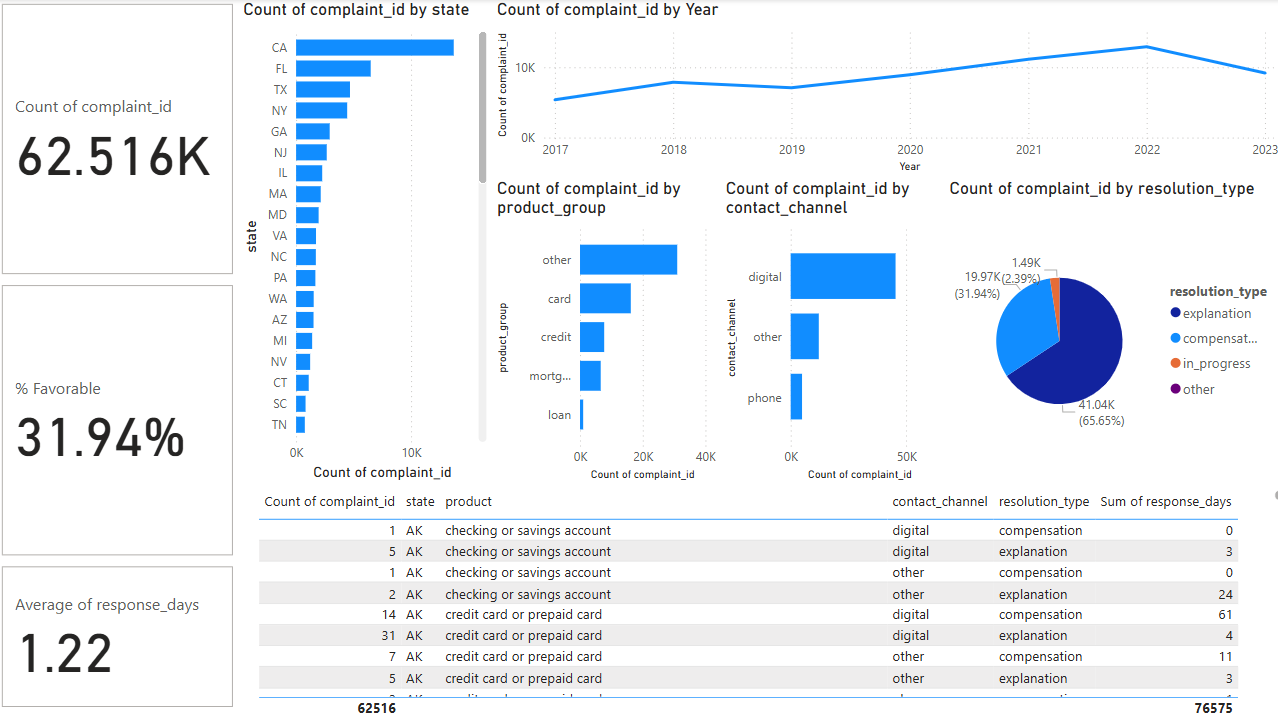

The page's visual inventory and layout, read from the dashboard file:
{"tool":"powerbi","page":{"name":"Page 1","canvas":[1280,720],"ordinal":0},"visuals":[{"type":"cardVisual","fields":{"Data":["CountNonNull(stg_consumer_complaints.complaint_id)"]},"box":[0,0,240.1,279.9],"z":0},{"type":"cardVisual","fields":{"Data":["stg_consumer_complaints.Measure"]},"box":[0,279.9,240.1,279.9],"z":1000},{"type":"cardVisual","fields":{"Data":["Avg(stg_consumer_complaints.response_days)"]},"box":[0,559.8,240.1,150.5],"z":2000},{"type":"barChart","fields":{"Category":["stg_consumer_complaints.state"],"Y":["CountNonNull(stg_consumer_complaints.complaint_id)"]},"box":[240.1,0,252.5,483.9],"z":3000},{"type":"barChart","fields":{"Y":["CountNonNull(stg_consumer_complaints.complaint_id)"],"Category":["stg_consumer_complaints.product_group"]},"box":[492.6,177.9,227.6,306],"z":4000},{"type":"barChart","fields":{"Y":["CountNonNull(stg_consumer_complaints.complaint_id)"],"Category":["stg_consumer_complaints.contact_channel"]},"box":[720.3,177.9,222.7,306],"z":5000},{"type":"pieChart","fields":{"Category":["stg_consumer_complaints.resolution_type"],"Y":["CountNonNull(stg_consumer_complaints.complaint_id)"]},"box":[942.9,177.9,337.1,306],"z":6000},{"type":"lineChart","fields":{"Category":["stg_consumer_complaints.date_received.Variation.Date Hierarchy.Year","stg_consumer_complaints.date_received.Variation.Date Hierarchy.Quarter","stg_consumer_complaints.date_received.Variation.Date Hierarchy.Month","stg_consumer_complaints.date_received.Variation.Date Hierarchy.Day"],"Y":["CountNonNull(stg_consumer_complaints.complaint_id)"]},"box":[492.6,0,787.4,177.9],"z":7000},{"type":"tableEx","fields":{"Values":["CountNonNull(stg_consumer_complaints.complaint_id)","stg_consumer_complaints.state","stg_consumer_complaints.product","stg_consumer_complaints.contact_channel","stg_consumer_complaints.resolution_type","Sum(stg_consumer_complaints.response_days)"]},"box":[240.1,483.9,1040,236.4],"z":8000}]}

Visuals, with their boxes in screenshot pixels (x1, y1, x2, y2), scaled from the page's 1280x720 canvas onto the 1278x721 screenshot:
cardVisual - CountNonNull(stg_consumer_complaints.complaint_id): x1=0, y1=0, x2=240, y2=280
cardVisual - stg_consumer_complaints.Measure: x1=0, y1=280, x2=240, y2=561
cardVisual - Avg(stg_consumer_complaints.response_days): x1=0, y1=561, x2=240, y2=711
barChart - stg_consumer_complaints.state x CountNonNull(stg_consumer_complaints.complaint_id): x1=240, y1=0, x2=492, y2=485
barChart - CountNonNull(stg_consumer_complaints.complaint_id) x stg_consumer_complaints.product_group: x1=492, y1=178, x2=719, y2=485
barChart - CountNonNull(stg_consumer_complaints.complaint_id) x stg_consumer_complaints.contact_channel: x1=719, y1=178, x2=942, y2=485
pieChart - stg_consumer_complaints.resolution_type x CountNonNull(stg_consumer_complaints.complaint_id): x1=941, y1=178, x2=1277, y2=485
lineChart - stg_consumer_complaints.date_received.Variation.Date Hierarchy.Year x stg_consumer_complaints.date_received.Variation.Date Hierarchy.Quarter: x1=492, y1=0, x2=1277, y2=178
tableEx - CountNonNull(stg_consumer_complaints.complaint_id) x stg_consumer_complaints.state: x1=240, y1=485, x2=1277, y2=720
